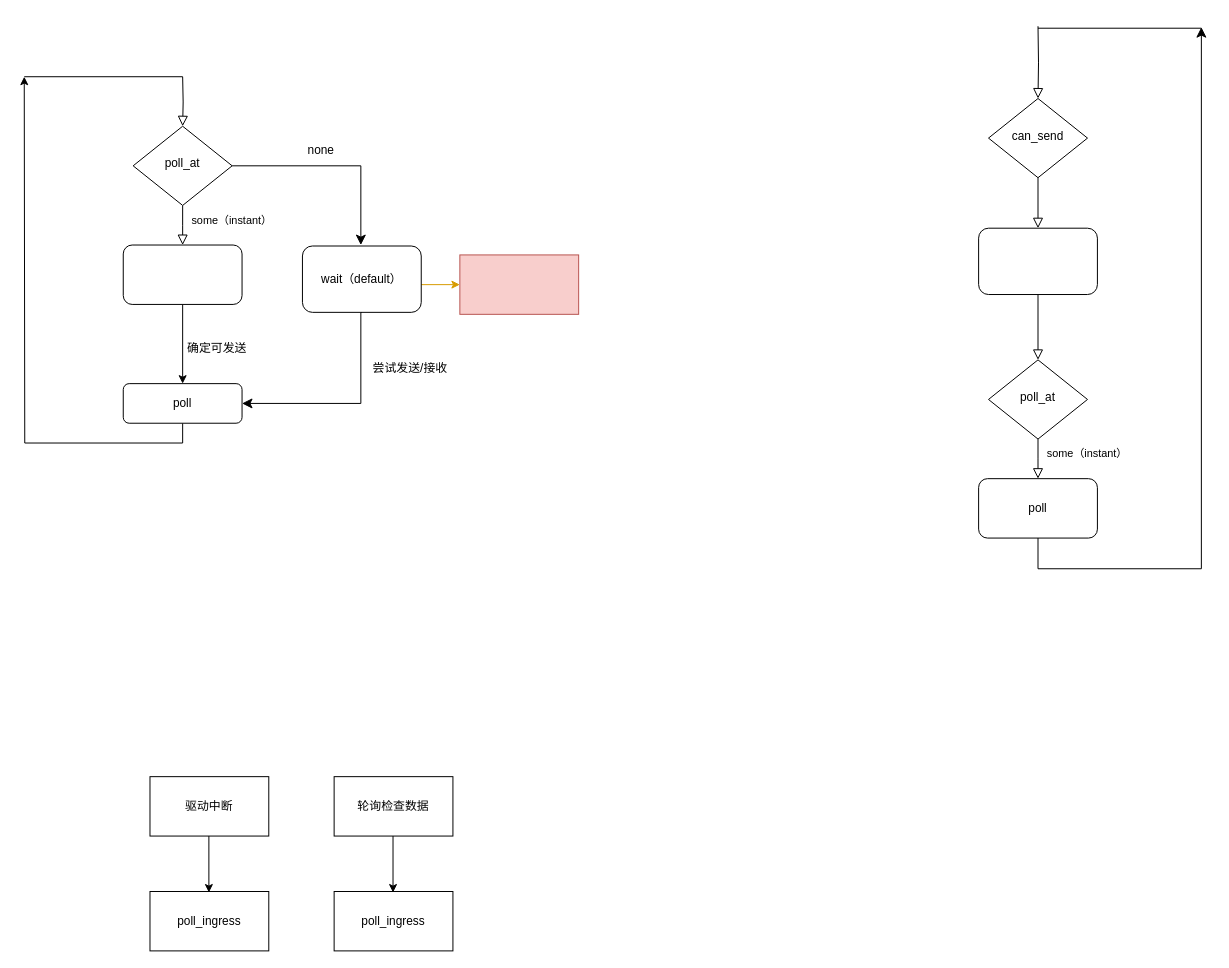
This 1229x968 diagram has some shape labels left out. The shapes that lost their labels are listed below. From the top down, each one's centre as x and y in pixels, then its label:
At (x=182, y=274): "wait（instant）".
At (x=1037, y=261): "send".
At (x=519, y=284): "async wait.await()".
